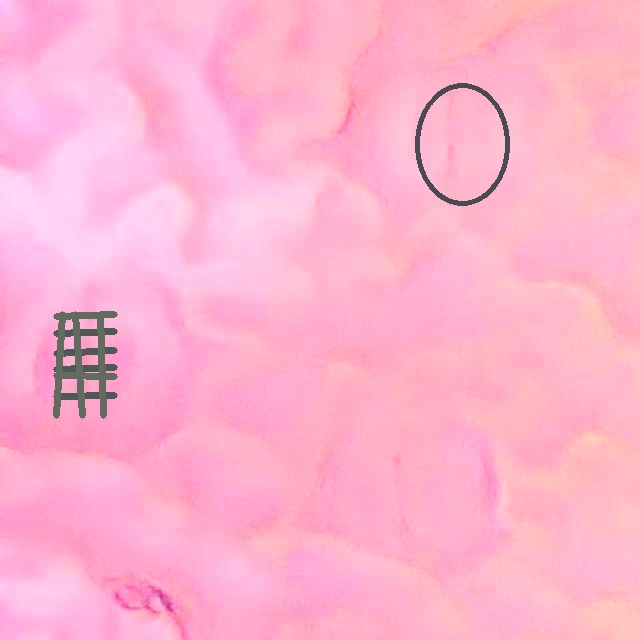close: (413, 82, 510, 206), (53, 311, 117, 418)
